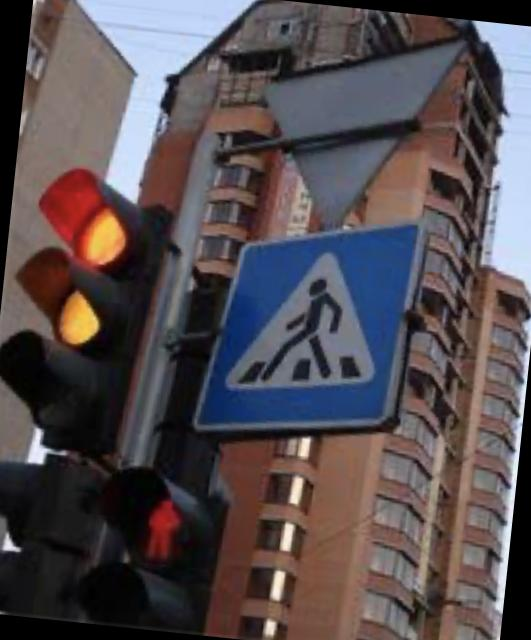crosswalk-sign: (191, 200, 426, 456)
